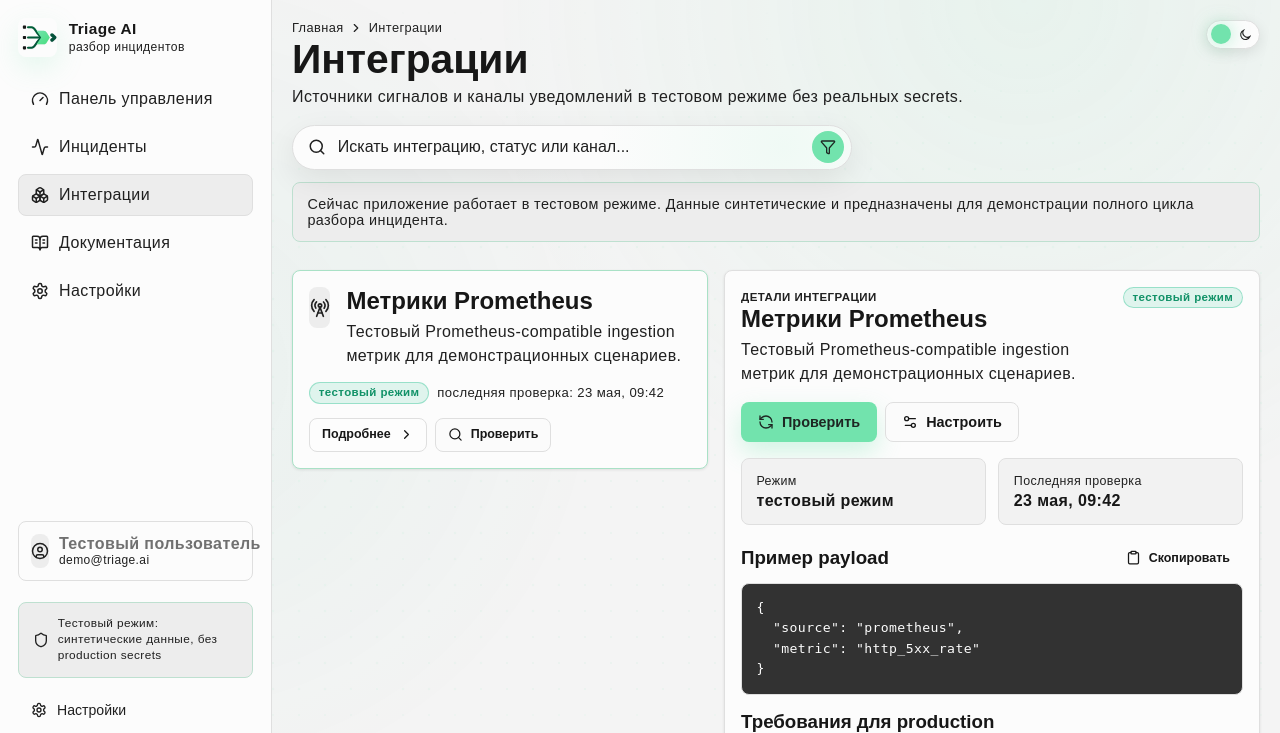
Test: Triage AI MVP › opens integration details and tests connection
Check: the 1st heading "Метрики Prometheus" is shown, box [346,287,593,314]
Step 1. Click the button "Проверить" below "последняя проверка:" → click(493, 435), box [435,418,551,452]
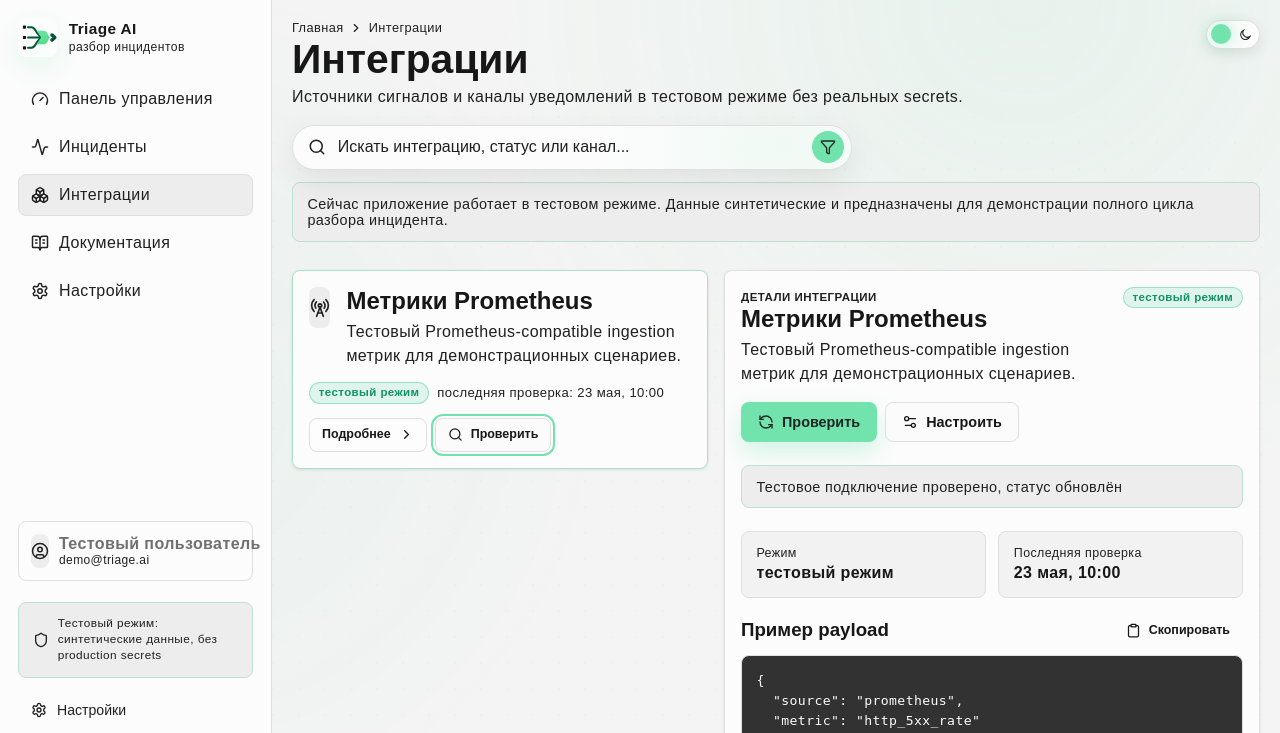
Check: the text "Тестовое подключение проверено, статус обновлён" is shown, box [741,465,1243,508]
